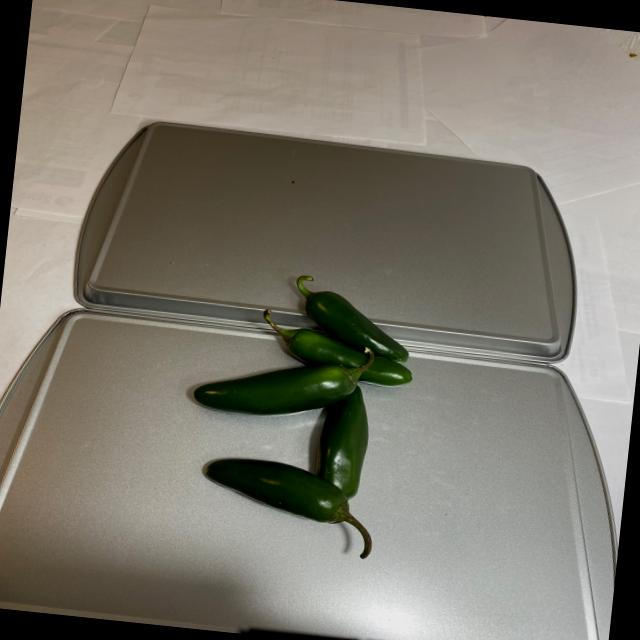chilli: (176, 258, 414, 550)
